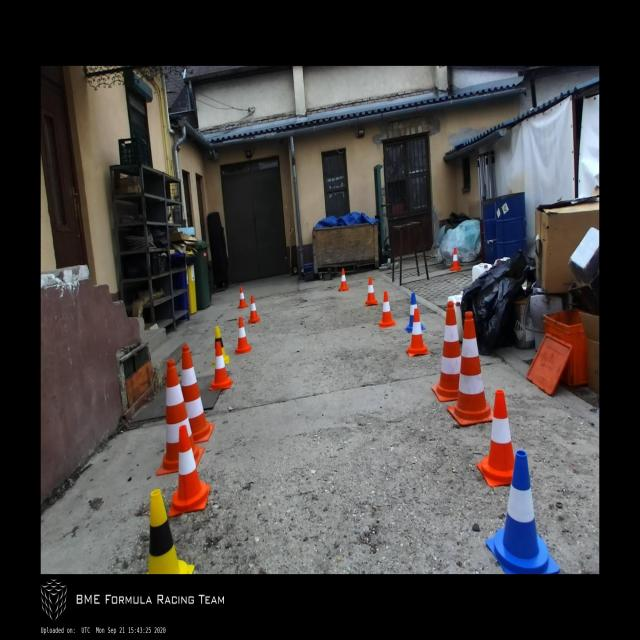blue_cone: (488, 450, 562, 574), (404, 294, 424, 333)
large_orange_cone: (156, 362, 204, 476), (447, 312, 494, 427), (181, 346, 214, 442), (431, 302, 462, 402)
orange_cone: (476, 391, 515, 486), (170, 427, 211, 515), (406, 308, 429, 356), (210, 342, 232, 390), (378, 291, 396, 328), (235, 316, 251, 354), (365, 277, 377, 307), (249, 296, 260, 323), (450, 248, 460, 272), (338, 268, 348, 291), (238, 287, 248, 309)
yellow_cone: (147, 488, 195, 574), (212, 325, 229, 366)
